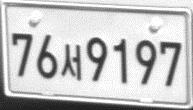1: (112, 38, 129, 83)
6: (36, 33, 58, 79)
7: (159, 41, 182, 87), (11, 31, 34, 76)
9: (86, 36, 108, 82), (135, 39, 157, 84)
서: (61, 43, 83, 81)
